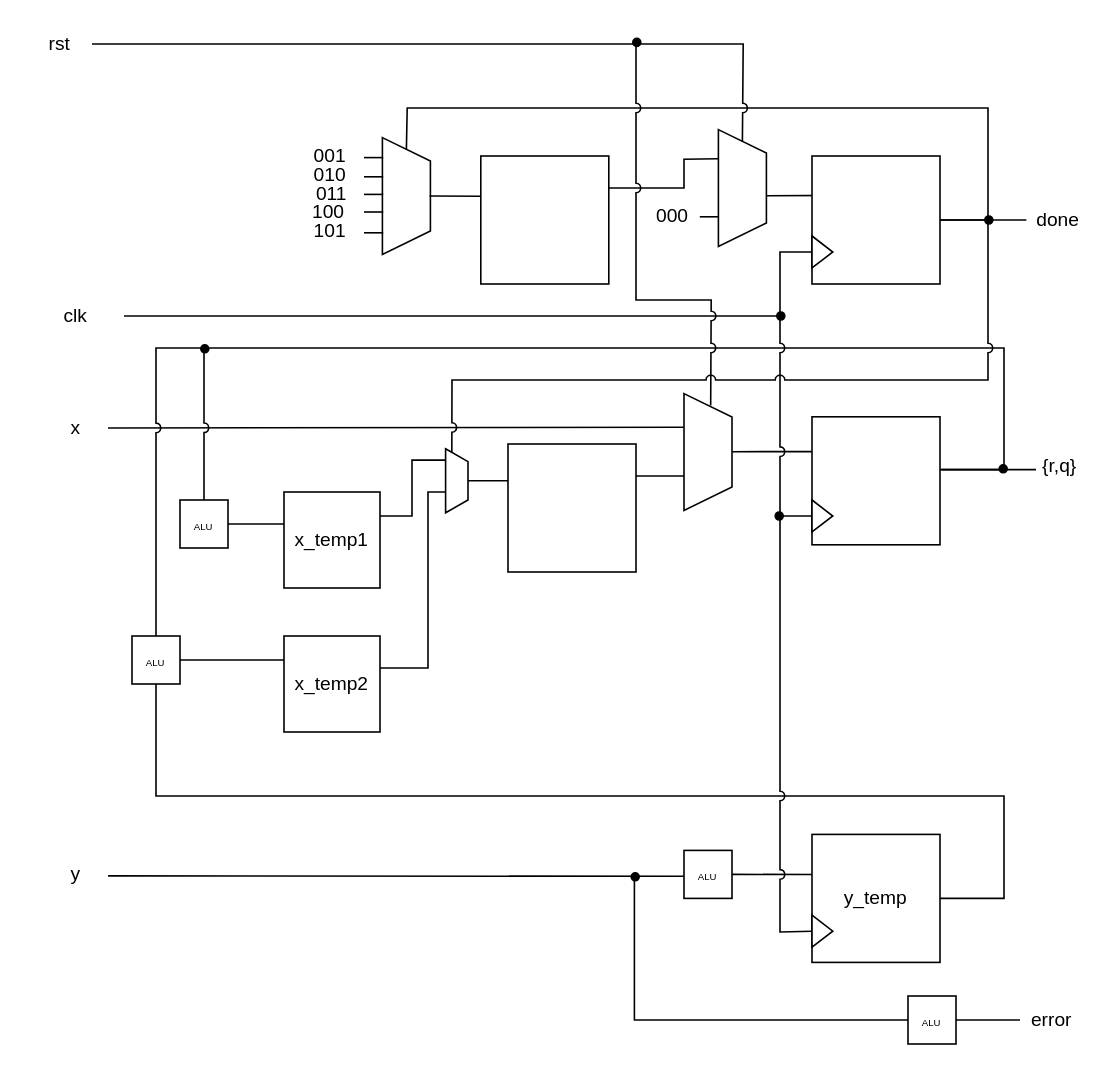
This 1118x1072 diagram has some shape labels left out. Here are the shapes that lost their labels. From the top down, the box of each, then its label:
(479, 154, 609, 284): next_state
(810, 154, 940, 284): current_state
(810, 415, 940, 545): x_temp
(506, 442, 636, 572): x_next
